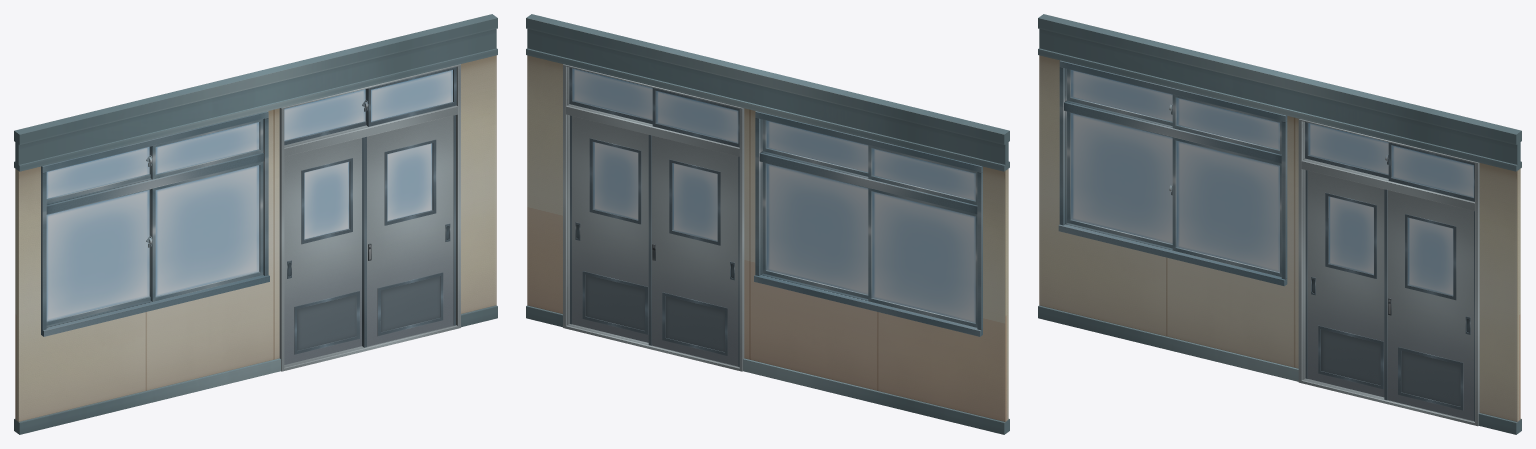
File: SHW_Door_01_02.fbx
3 views of the same model, side by side, from view 1: azimuth 30°, elevation 25°; view 2: azimuth 150°, elevation 25°; view 3: azimuth 330°, elevation 25° (orthographic).
Visible parts, largest first — view 1: wall01, glass_01 (×8), door01_R, door01_L, window, door_01, window01_01 (×2), window01_02 (×2), window02_01, window02_02; view 2: wall01, glass_02 (×8), door01_L, door01_R, window, door_01, window01_02 (×2), window01_01 (×2), window02_02, window02_01; view 3: wall01, glass_01 (×8), door01_R, door01_L, window, door_01, window01_01 (×2), window01_02 (×2), window02_01, window02_02.
Boxes of the visible parts, x1,y1,x2,y2 form: wall01: (14,14,497,434); glass_01 (×8): (46,70,452,321); door01_R: (362,115,455,347); door01_L: (284,138,361,364); window: (41,111,269,336); door_01: (279,64,460,371); window01_01 (×2): (150,89,366,301); window01_02 (×2): (46,67,456,325); window02_01: (150,119,263,179); window02_02: (46,146,150,203); wall01: (526,14,1009,434); glass_02 (×8): (572,68,975,322); door01_L: (648,135,739,366); door01_R: (570,115,648,342); window: (754,111,982,336); door_01: (563,64,744,371); window01_02 (×2): (569,67,977,327); window01_01 (×2): (652,88,868,298); window02_02: (868,145,977,205); window02_01: (762,119,868,176); wall01: (1038,14,1521,434); glass_01 (×8): (1071,70,1473,295); door01_R: (1384,189,1474,421); door01_L: (1305,170,1384,397); window: (1058,60,1287,286); door_01: (1298,119,1479,426); window01_01 (×2): (1172,122,1388,276); window01_02 (×2): (1067,111,1474,248); window02_01: (1172,94,1281,154); window02_02: (1067,69,1172,125).
Size of the model in its own units: 500 by 300 by 17.
